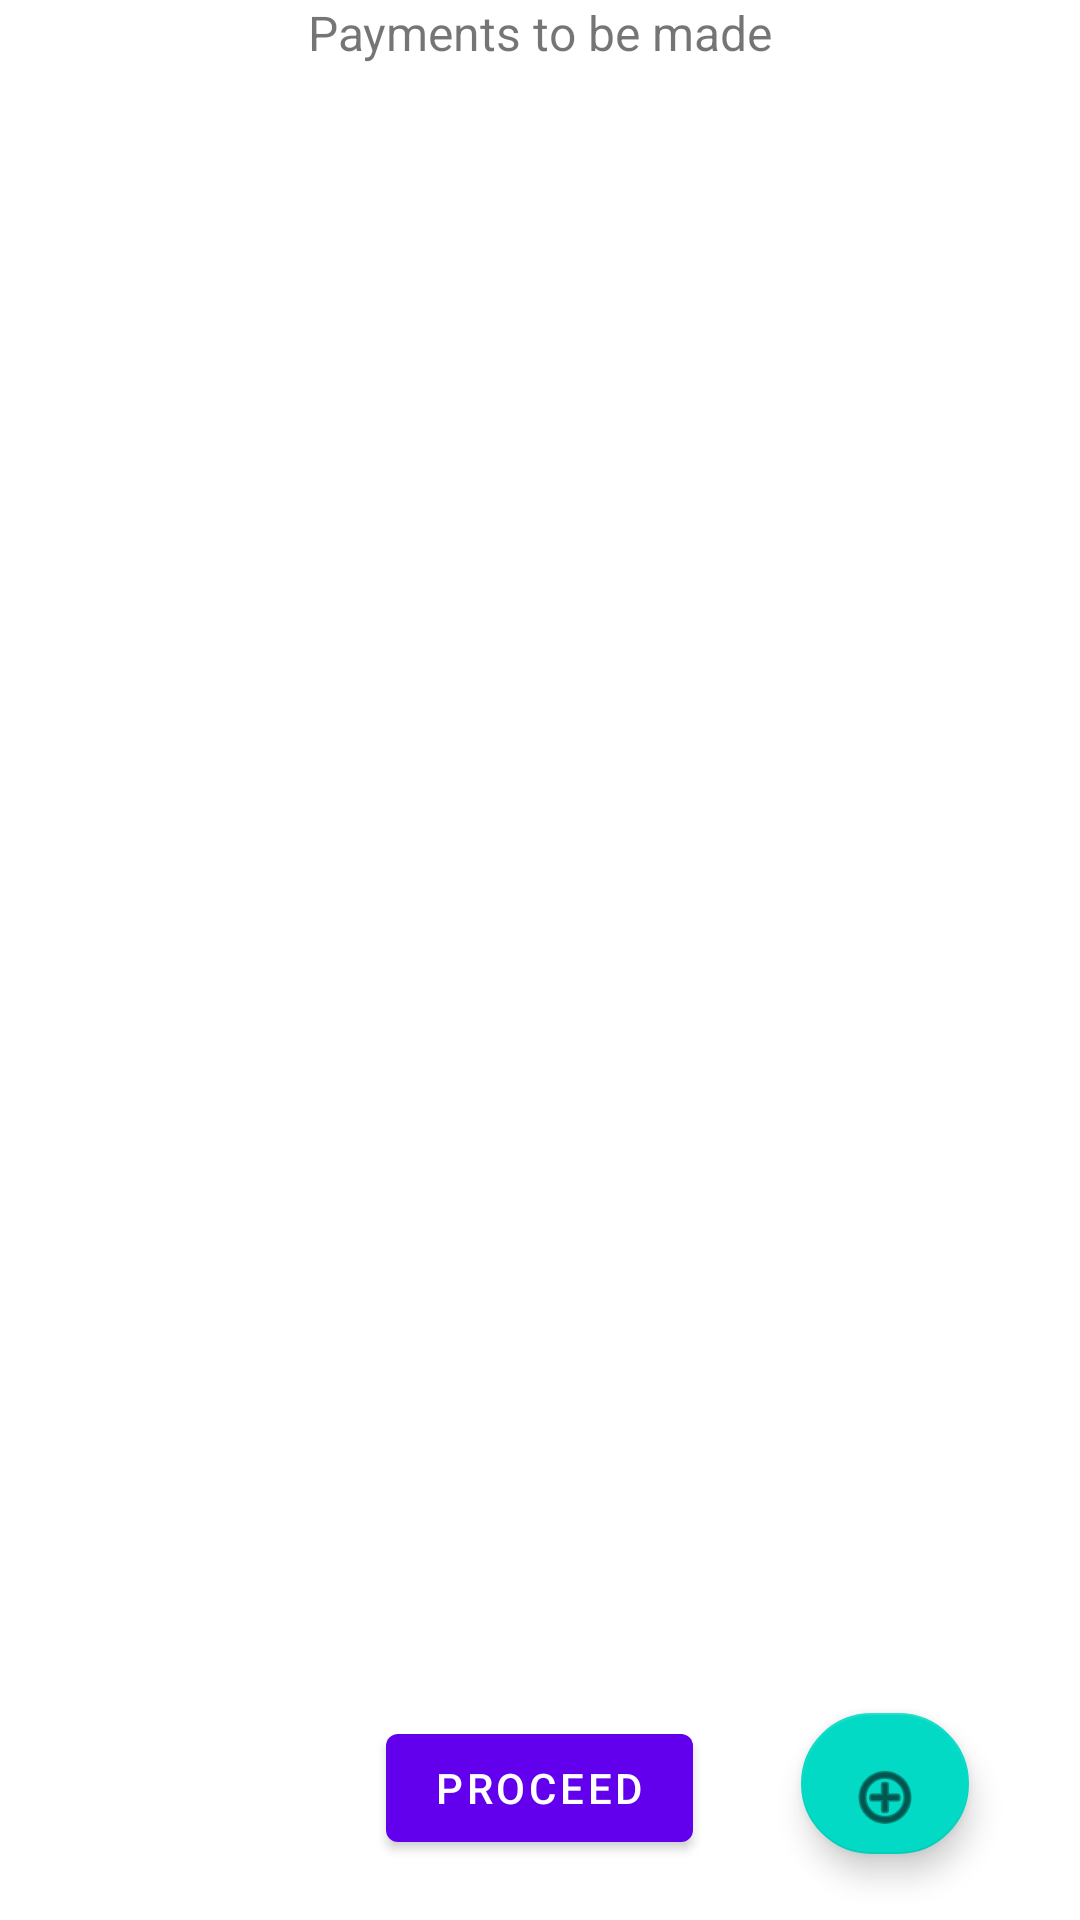

Icons on this 1080w x 1920h Android screen, each with its box as detection(x1, y1, x2, y2):
add: detection(801, 1713, 969, 1854)
